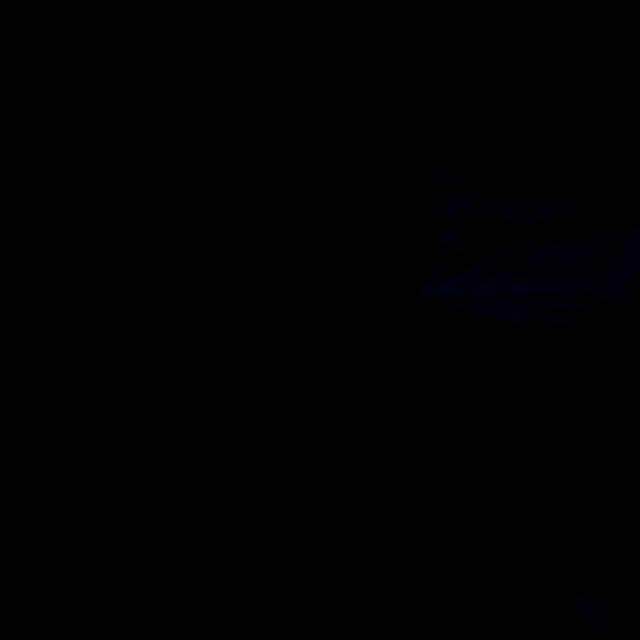Dog: (118, 45, 400, 502)
